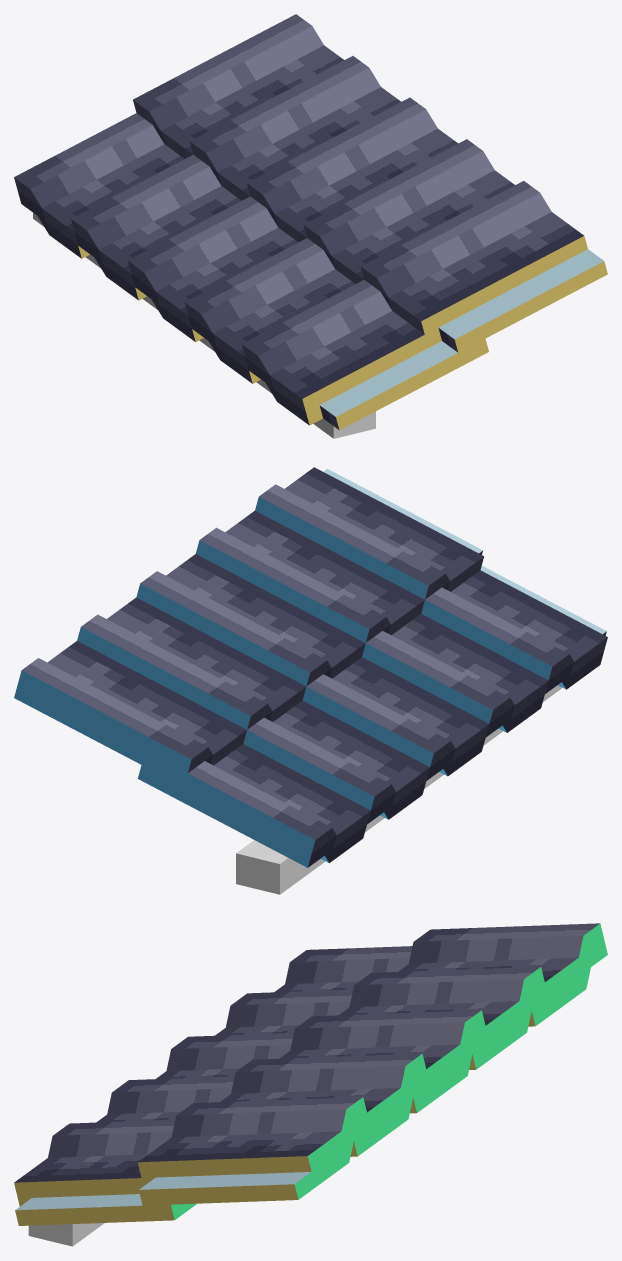
File: smallroof.fbx
3 renders of one model, top to bottom at view 1: azimuth 30°, elevation 25°; view 2: azimuth 150°, elevation 25°; view 3: azimuth 330°, elevation 25°, orthographic. The views are drawn at different scales.
Visible parts, largest first — view 1: cube_3, cube, cube_24, cube_6, cube_18, cube_12, cube_15, cube_9, cube_27, cube_21, cube_4, cube_1 (+11 smaller); view 2: cube_26, cube_29, cube_6, cube_12, cube_24, cube_18, cube_3, cube_8, cube_20, cube_5, cube_14, cube_21 (+11 smaller); view 3: cube_3, cube, cube_18, cube_12, cube_24, cube_6, cube_4, cube_1, cube_21, cube_9, cube_27, cube_15 (+11 smaller).
Boxes of the visible parts, x1,y1,x2,y2 form: cube_3: [377, 193, 587, 347]; cube: [258, 291, 441, 425]; cube_24: [149, 26, 344, 158]; cube_6: [320, 151, 514, 283]; cube_18: [206, 68, 400, 200]; cube_12: [263, 109, 457, 242]; cube_15: [144, 208, 298, 341]; cube_9: [201, 250, 355, 383]; cube_27: [30, 125, 184, 258]; cube_21: [87, 167, 241, 300]; cube_4: [438, 249, 607, 352]; cube_1: [319, 338, 488, 430]; cube_26: [14, 658, 208, 786]; cube_29: [137, 760, 331, 867]; cube_6: [225, 511, 424, 635]; cube_12: [166, 554, 365, 678]; cube_24: [47, 641, 246, 765]; cube_18: [107, 597, 306, 721]; cube_3: [285, 467, 483, 591]; cube_8: [195, 527, 386, 642]; cube_20: [77, 614, 267, 729]; cube_5: [255, 484, 445, 599]; cube_14: [136, 571, 326, 686]; cube_21: [273, 700, 429, 819]; cube_3: [138, 1109, 353, 1187]; cube: [14, 1131, 196, 1207]; cube_18: [339, 979, 531, 1057]; cube_12: [280, 1022, 472, 1100]; cube_24: [398, 935, 590, 1013]; cube_6: [220, 1066, 412, 1143]; cube_4: [139, 1172, 315, 1205]; cube_1: [15, 1194, 191, 1225]; cube_21: [215, 1001, 350, 1035]; cube_9: [96, 1088, 231, 1122]; cube_27: [274, 958, 409, 992]; cube_15: [156, 1044, 291, 1078].
Bounding box in the file's own units: 130 × 62.64 × 237.
Materials: 1 (1 with a texture image).
